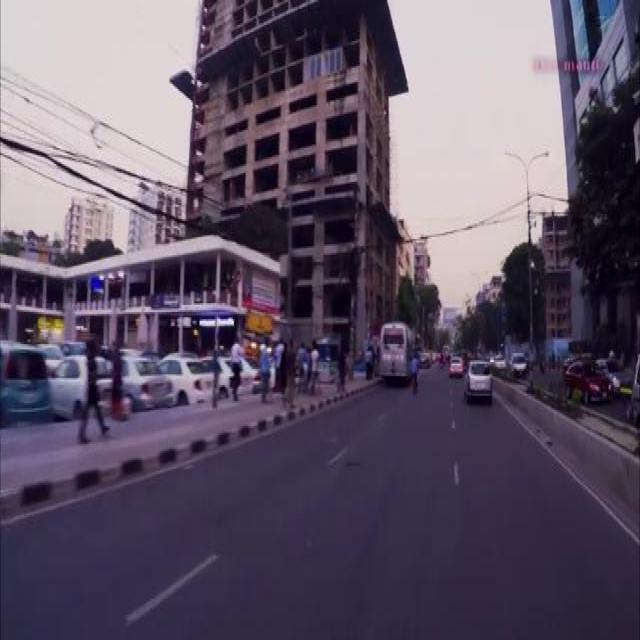5: (49, 352, 111, 409), (114, 354, 172, 400), (160, 352, 212, 399), (564, 358, 612, 399), (214, 352, 252, 388), (463, 358, 492, 399), (240, 352, 266, 388), (448, 353, 460, 373)
Truck: (379, 317, 417, 376)
